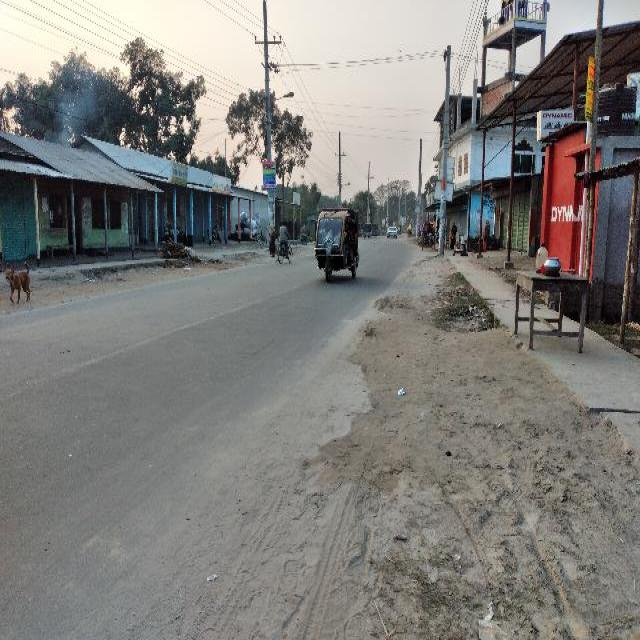10: (206, 218, 222, 242)
13: (420, 220, 436, 252), (396, 223, 402, 236)
18: (407, 217, 423, 236)
5: (386, 224, 396, 237)
Car: (313, 205, 359, 283), (370, 219, 378, 237), (364, 221, 371, 238)
Motorcycle: (276, 222, 292, 266), (160, 223, 190, 244)
